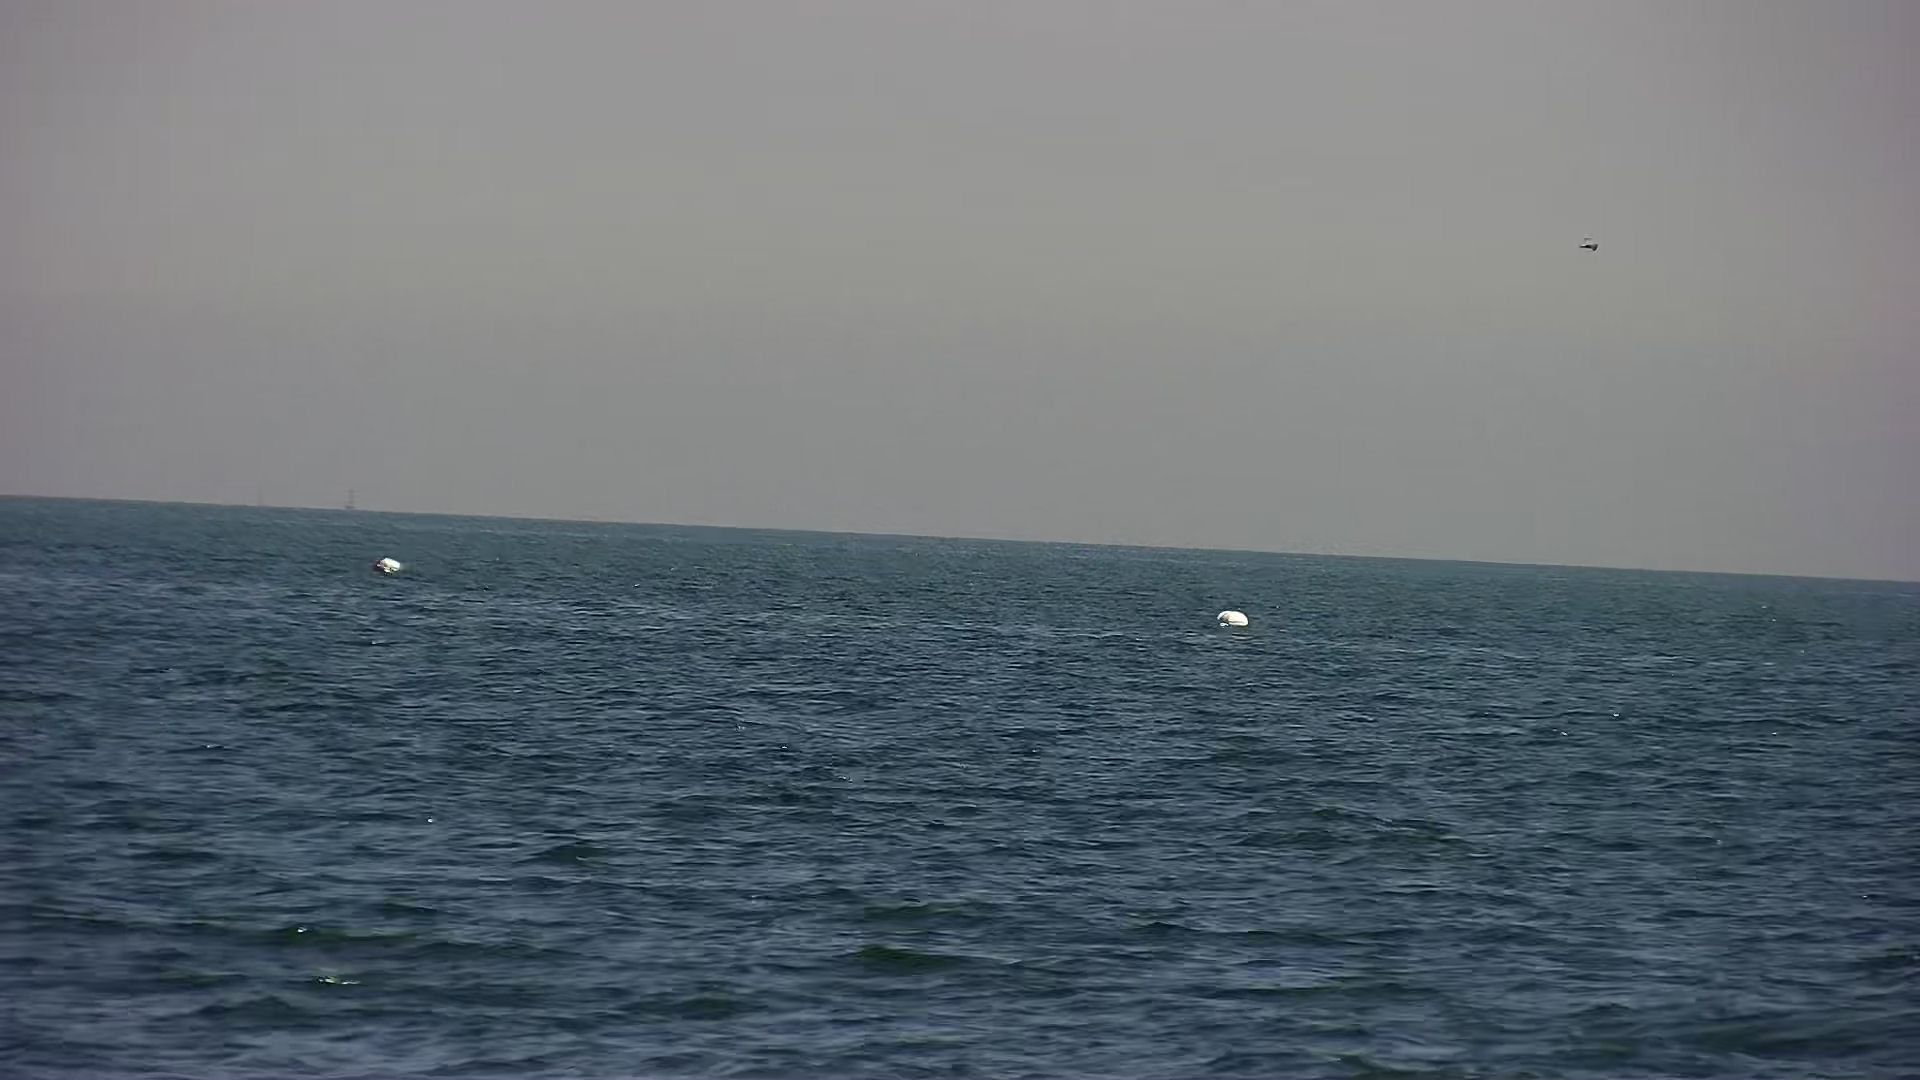rubbish: (1201, 599, 1273, 636), (357, 545, 421, 585)
